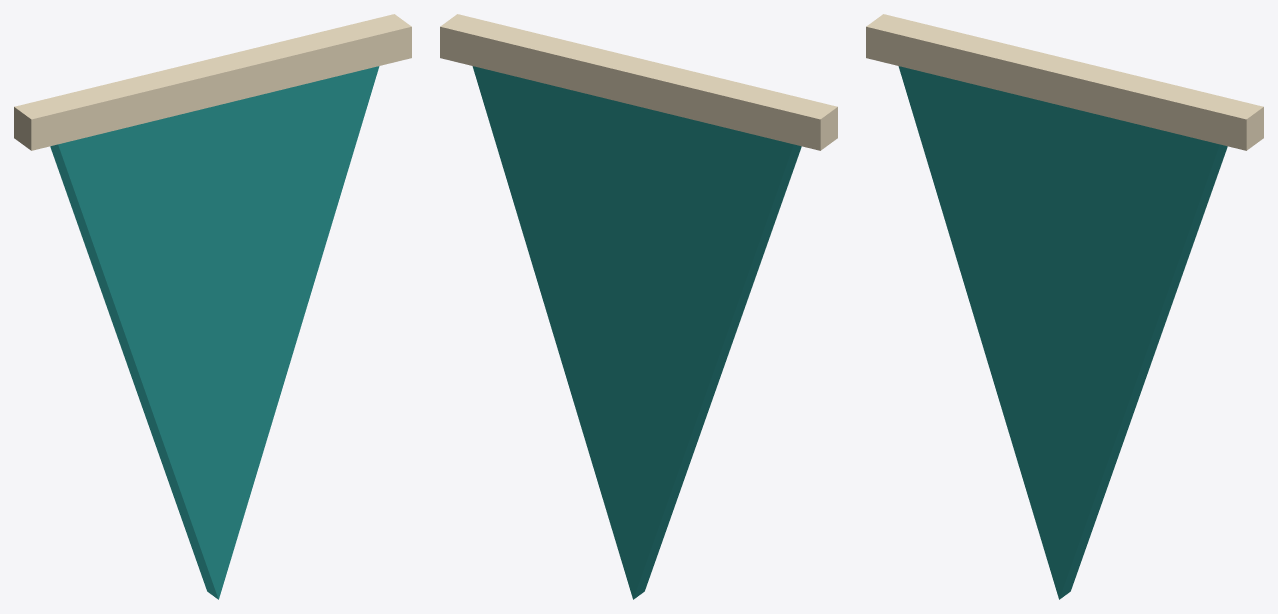
The model's file is rt_pennant_b.glb.
3 renders of one model, left to right at view 1: azimuth 30°, elevation 25°; view 2: azimuth 150°, elevation 25°; view 3: azimuth 330°, elevation 25°, orthographic.
Visible parts, largest first — view 1: rt_pennant_b_body; view 2: rt_pennant_b_body; view 3: rt_pennant_b_body.
Boxes of the visible parts, x1,y1,x2,y2 form: rt_pennant_b_body: (14, 14, 411, 599); rt_pennant_b_body: (440, 14, 837, 599); rt_pennant_b_body: (866, 14, 1263, 599).
Bounding box in the file's own units: 0.38 × 0.505 × 0.03.
